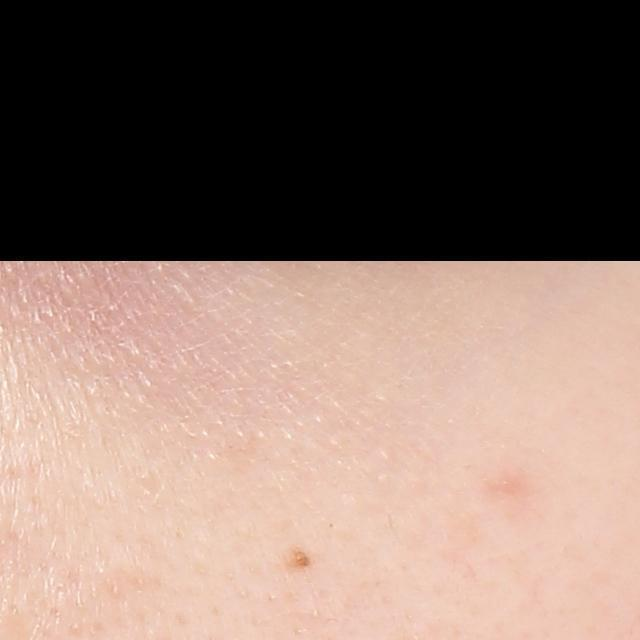nevus: (293, 544, 313, 570)
